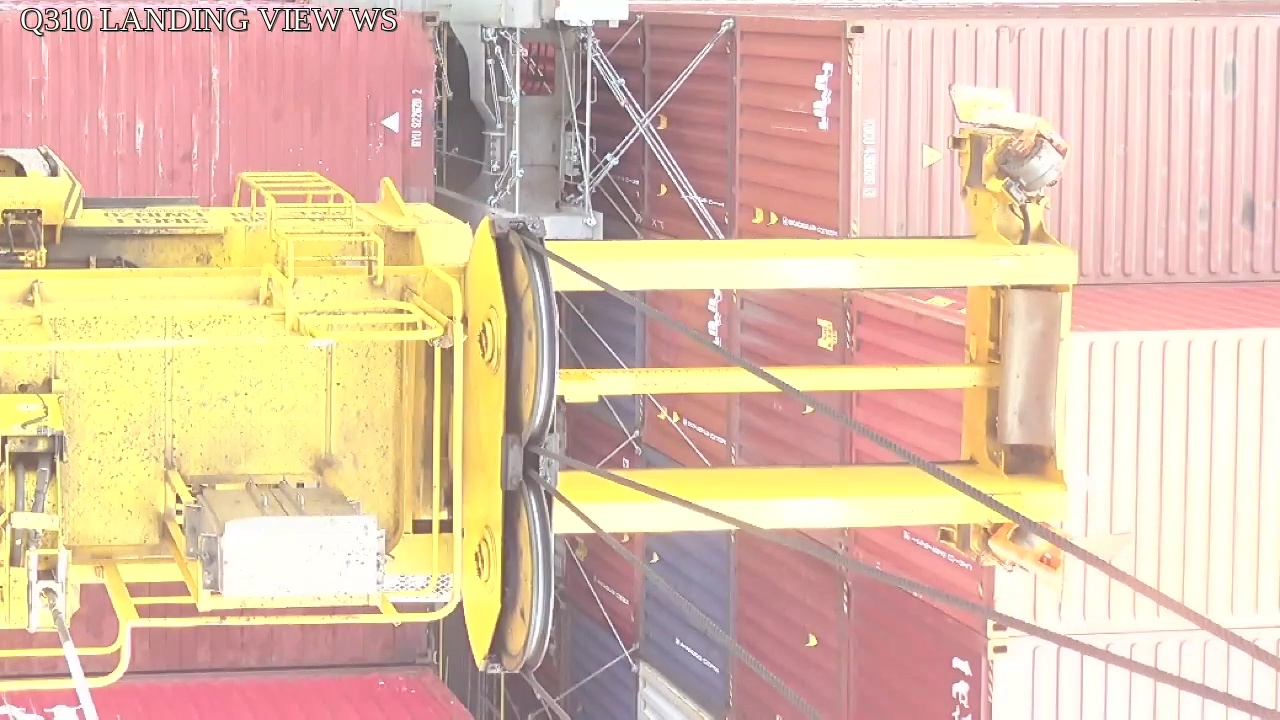right: (461, 214, 562, 675)
